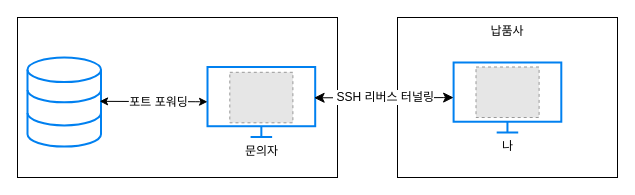
Image size: 635x195. Some labels were removed from this diagram. Grey dashed boxes stand in for pictures. Here are the shapes that lost their labels. From the top down, the box of each, then its label:
(26, 56, 102, 147): DB
(16, 16, 338, 178): 고객사(폐쇄망)
